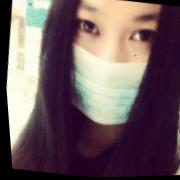WRONG: (44, 1, 180, 139)
